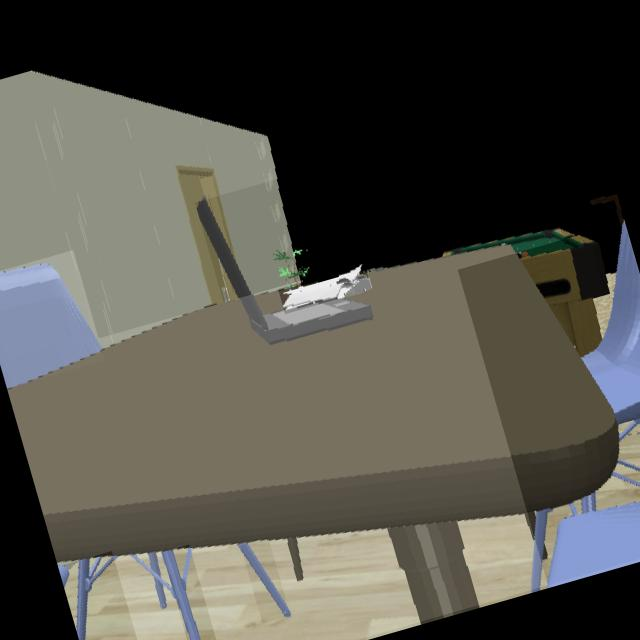book: (284, 265, 371, 310)
chair: (0, 264, 101, 388), (584, 222, 640, 439), (549, 496, 640, 583), (241, 545, 290, 614), (163, 551, 200, 640), (76, 558, 114, 640)
laptop: (197, 200, 371, 345)
table: (8, 246, 619, 619)
